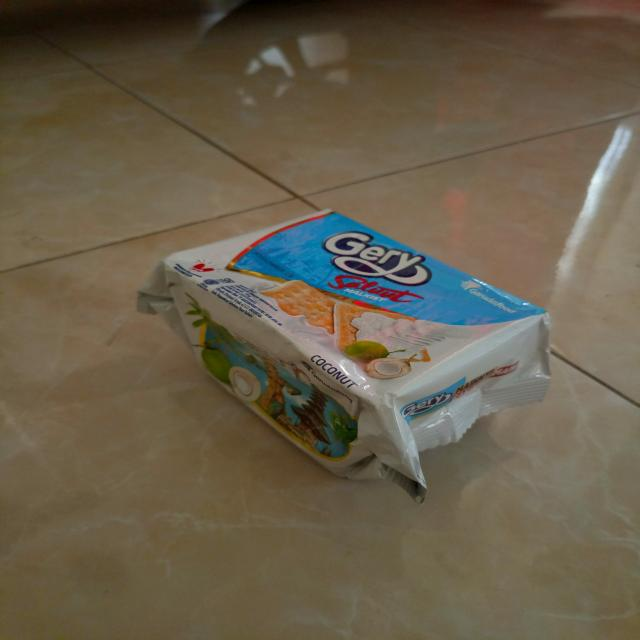gery-salut-coconut: (135, 211, 554, 503)
